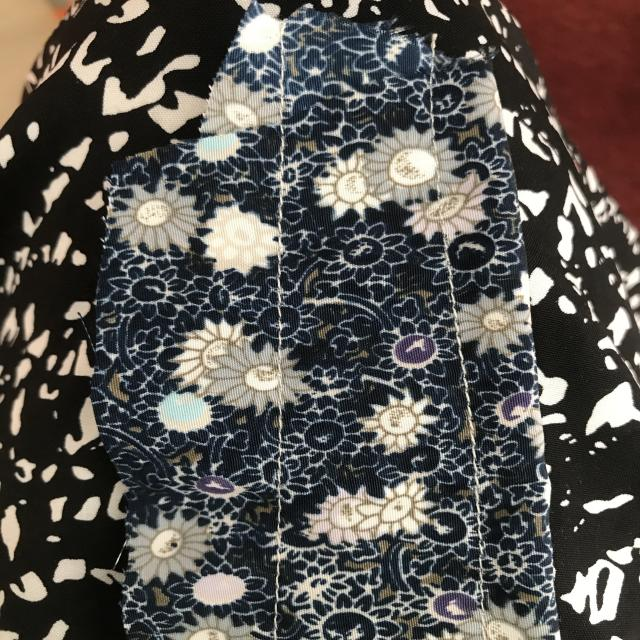good: (436, 280, 486, 434), (273, 416, 298, 546), (260, 268, 292, 336)
